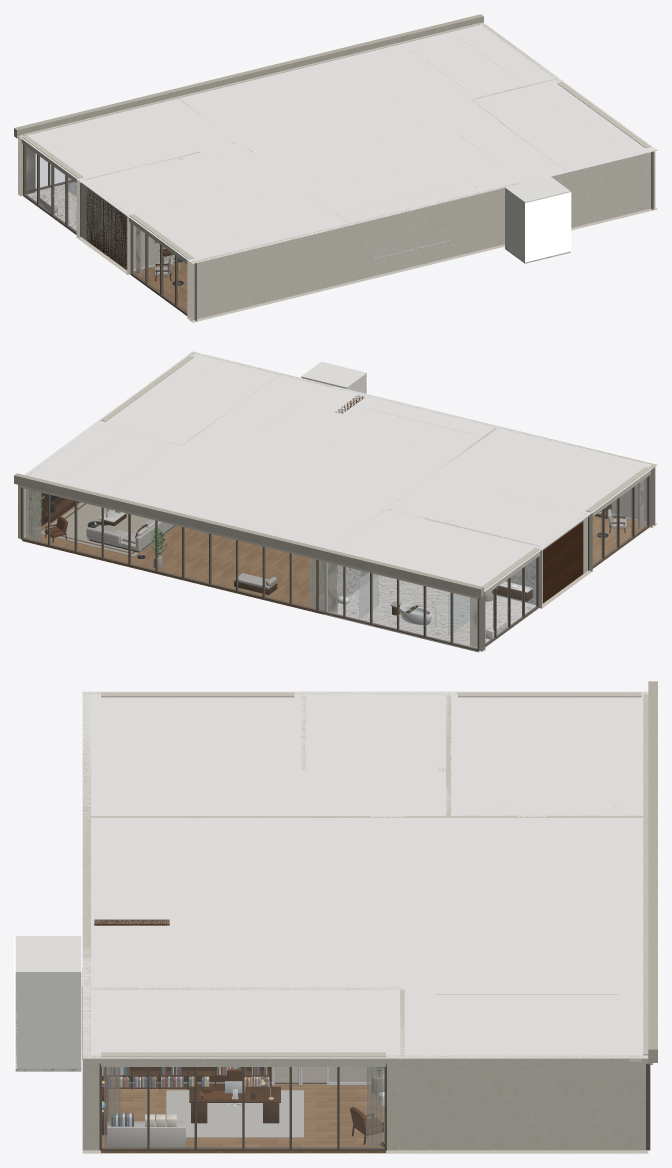
Rendered from apartment.glb.
3 views of the same model, one above another, from view 1: azimuth 30°, elevation 25°; view 2: azimuth 150°, elevation 25°; view 3: azimuth 270°, elevation 25° (orthographic). The views are drawn at different scales.
Visible parts, largest first — view 1: ceiling, wall_south_a, wall_south_b, facade_band, wall_west_b, lobby_back, glaze_w_bed_glass, glaze_w_bath_glass, his_wardrobe_carcass, glaze_n_head, lobby_side_-1, floor_oak_suite (+9 smaller); view 2: ceiling, glaze_n_glass, floor_oak_living, floor_bath, facade_band, glaze_n_mullions, glaze_w_bed_glass, his_wardrobe_carcass, glaze_w_bath_glass, rug_living, wall_south_a, bath_cladding (+16 smaller); view 3: ceiling, wall_east_b, glaze_e_study_glass, floor_oak_study, lobby_side_1, glaze_e_study_head, rug_study, facade_band, pelmet, glaze_e_study_mullions, lobby_ceiling, glaze_n_head (+12 smaller).
Part boxes in pixels (bbox=[...]): ceiling: bbox=[20, 22, 656, 263]; wall_south_a: bbox=[190, 183, 515, 322]; wall_south_b: bbox=[551, 150, 656, 230]; facade_band: bbox=[14, 14, 483, 138]; wall_west_b: bbox=[76, 179, 130, 274]; lobby_back: bbox=[525, 192, 571, 262]; glaze_w_bed_glass: bbox=[132, 225, 186, 312]; glaze_w_bath_glass: bbox=[25, 146, 76, 230]; his_wardrobe_carcass: bbox=[86, 188, 126, 269]; glaze_n_head: bbox=[22, 23, 479, 135]; lobby_side_-1: bbox=[505, 189, 524, 261]; floor_oak_suite: bbox=[130, 261, 187, 315]; ceiling: bbox=[24, 352, 651, 591]; glaze_n_glass: bbox=[23, 488, 477, 648]; floor_oak_living: bbox=[106, 525, 324, 614]; floor_bath: bbox=[324, 575, 538, 652]; facade_band: bbox=[14, 473, 483, 597]; glaze_n_mullions: bbox=[21, 487, 479, 650]; glaze_w_bed_glass: bbox=[593, 477, 647, 564]; his_wardrobe_carcass: bbox=[543, 521, 583, 603]; glaze_w_bath_glass: bbox=[485, 558, 536, 643]; rug_living: bbox=[41, 502, 175, 556]; wall_south_a: bbox=[333, 386, 655, 525]; bath_cladding: bbox=[328, 509, 536, 604]; ceiling: bbox=[82, 691, 648, 1058]; wall_east_b: bbox=[386, 1055, 648, 1153]; glaze_e_study_glass: bbox=[102, 1067, 384, 1147]; floor_oak_study: bbox=[101, 1084, 385, 1153]; lobby_side_1: bbox=[15, 973, 81, 1068]; glaze_e_study_head: bbox=[101, 1052, 385, 1066]; rug_study: bbox=[166, 1090, 303, 1137]; facade_band: bbox=[648, 681, 657, 1062]; pelmet: bbox=[629, 698, 641, 1061]; glaze_e_study_mullions: bbox=[99, 1063, 386, 1150]; lobby_ceiling: bbox=[15, 936, 81, 974]; glaze_n_head: bbox=[643, 694, 652, 1064].
Bounding box in the file's own units: 26.6 × 3.62 × 19.65.
147 materials, 55 textured.
